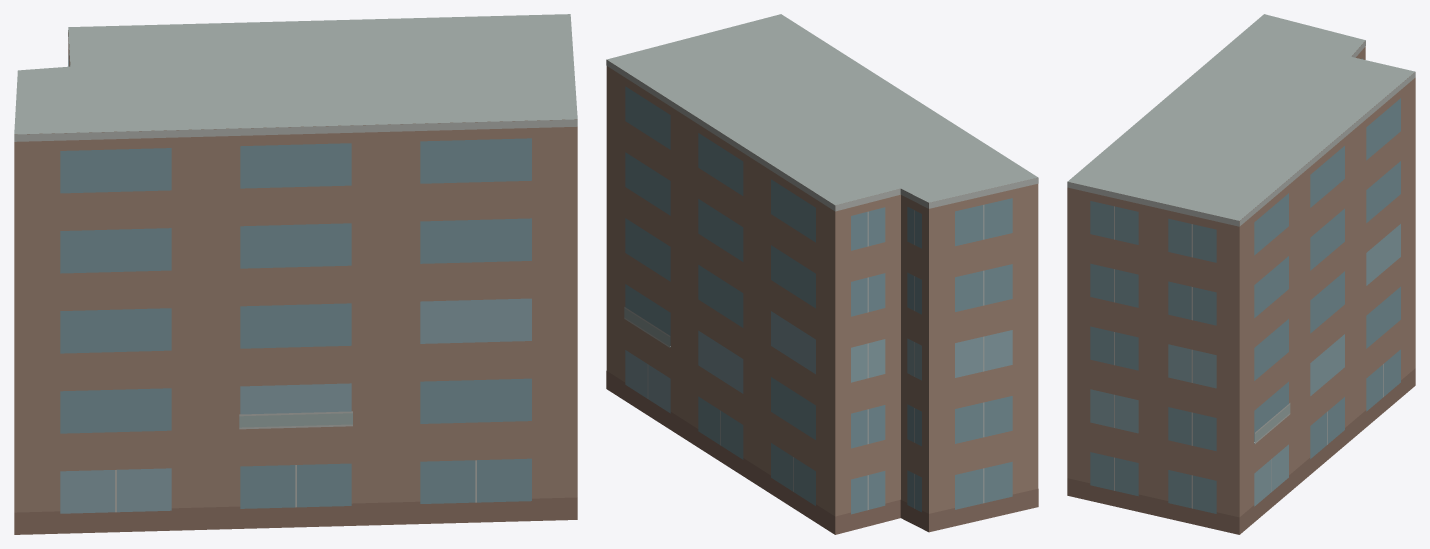
Rendered from survey-upis-32931142.glb.
3 views of the same model, side by side, from view 1: azimuth 30°, elevation 25°; view 2: azimuth 150°, elevation 25°; view 3: azimuth 270°, elevation 25° (orthographic). The views are drawn at different scales.
Visible parts, largest first — view 1: survey-upis-32931142.tmp; view 2: survey-upis-32931142.tmp; view 3: survey-upis-32931142.tmp.
Boxes of the visible parts, x1,y1,x2,y2 form: survey-upis-32931142.tmp: (14,14,577,534); survey-upis-32931142.tmp: (606,14,1038,534); survey-upis-32931142.tmp: (1067,14,1415,534).
Bounding box in the file's own units: 18.59 × 13.15 × 13.22.
